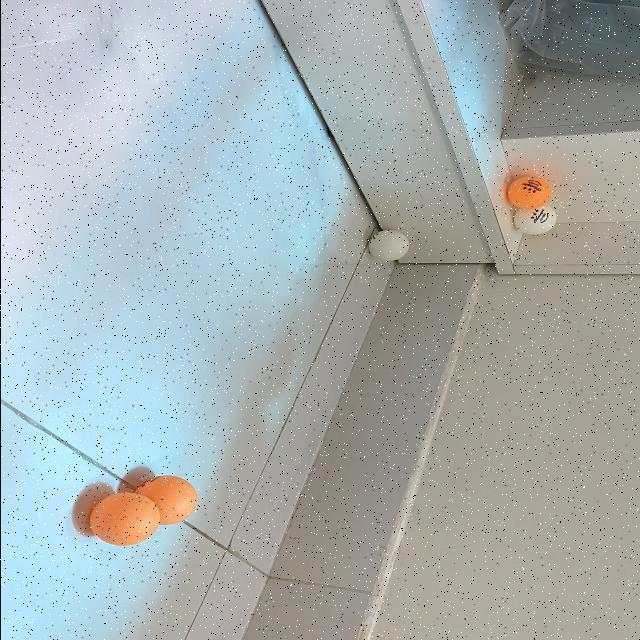ping-pong-ball: (87, 493, 159, 548), (132, 476, 196, 526), (512, 203, 556, 236), (506, 178, 550, 210), (367, 230, 409, 261)
